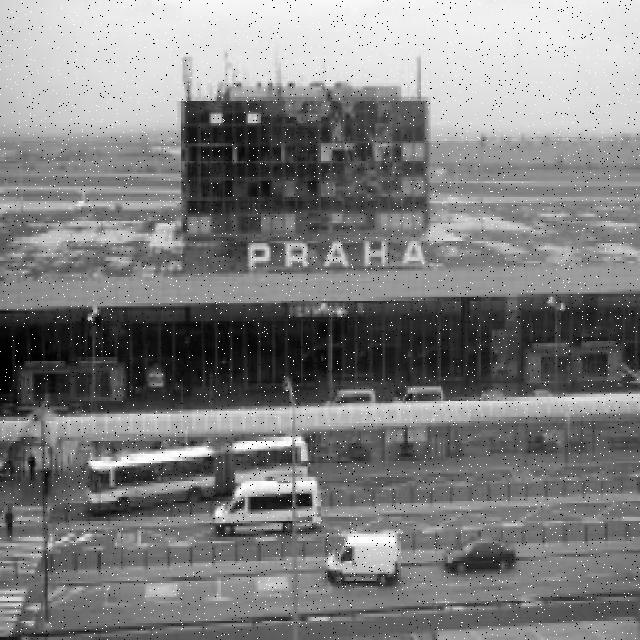Bus: (87, 437, 310, 514)
Van: (213, 476, 321, 537), (326, 530, 403, 588)
